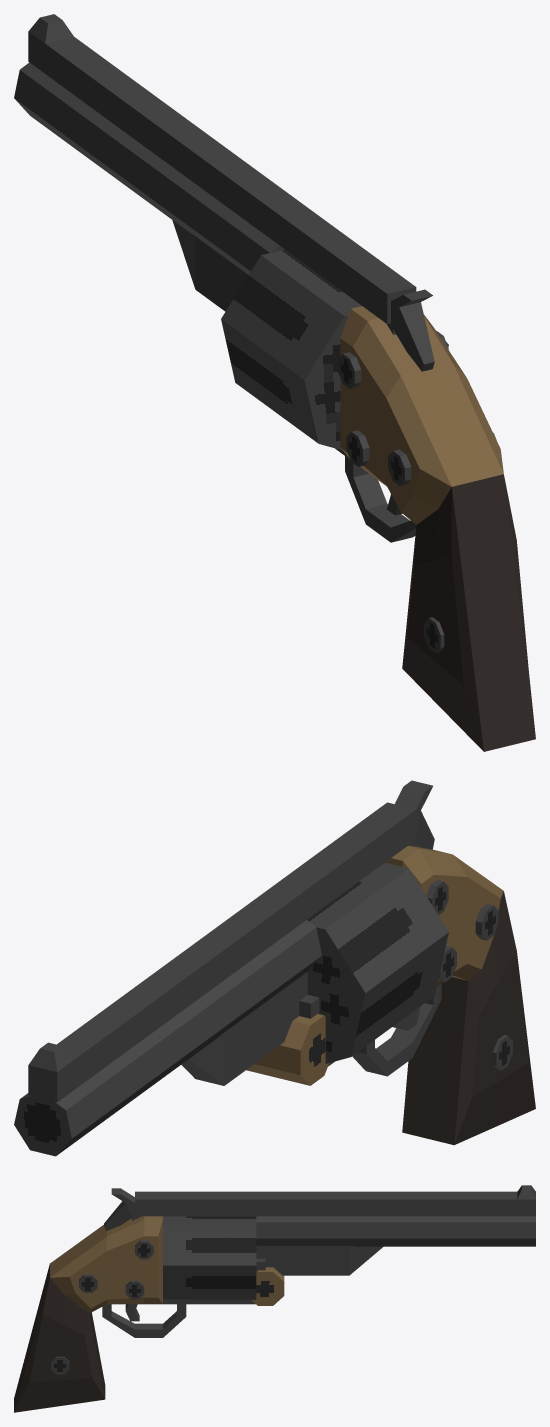
The model's file is revolver.gltf.
3 renders of one model, top to bottom at view 1: azimuth 30°, elevation 25°; view 2: azimuth 150°, elevation 25°; view 3: azimuth 270°, elevation 25°, orthographic. The views are drawn at different scales.
Visible parts, largest first — view 1: cuboid (×5), cylinder (×2); view 2: cuboid (×5), cylinder (×3), SCREW (×4); view 3: cuboid (×5), cylinder (×3), SCREW (×4).
Boxes of the visible parts, x1,y1,x2,y2 form: cuboid (×5): (28, 14, 535, 751); cylinder (×2): (14, 62, 448, 449); cuboid (×5): (28, 780, 535, 1145); cylinder (×3): (14, 862, 448, 1156); SCREW (×4): (426, 880, 512, 1070); cuboid (×5): (14, 1185, 535, 1412); cylinder (×3): (163, 1216, 535, 1305); SCREW (×4): (51, 1240, 153, 1374).
Bounding box in the file's own units: 0.0625 × 0.1615 × 0.3498.
Materials: 1 (1 with a texture image).
